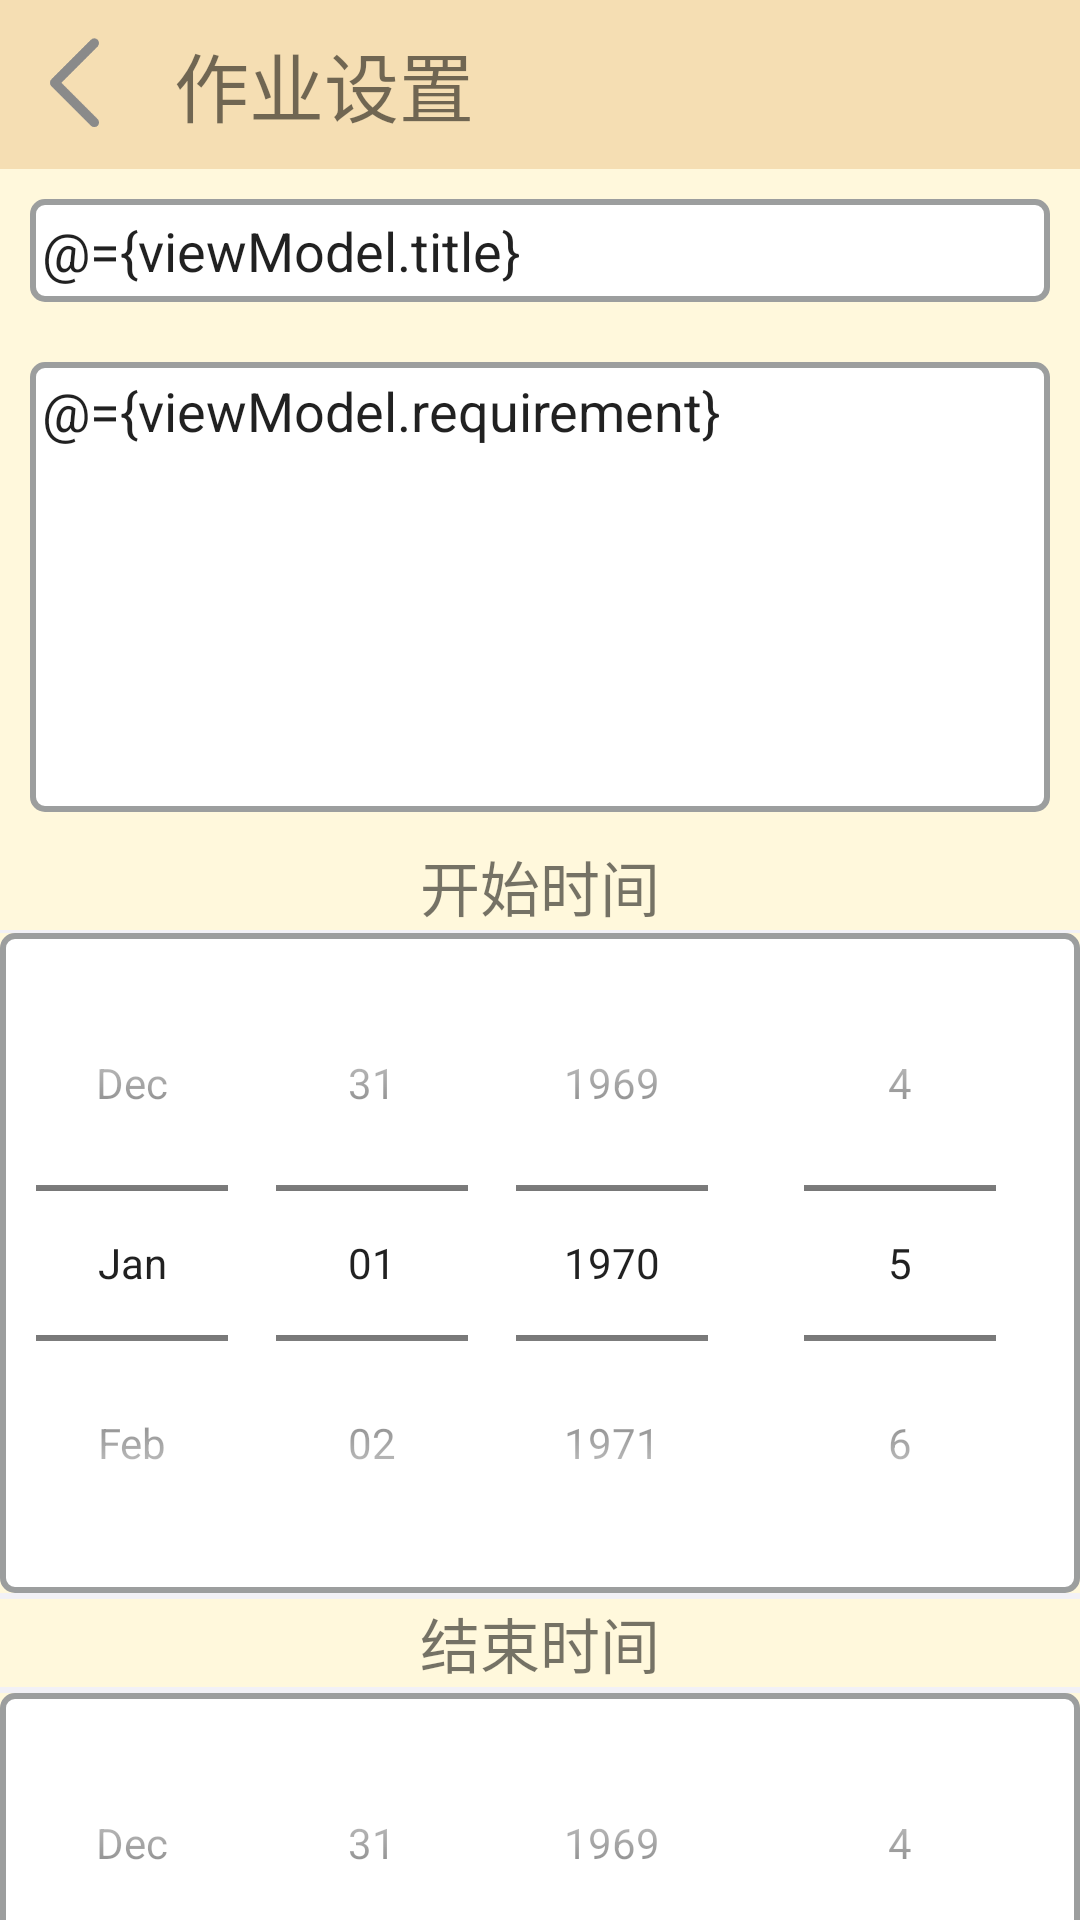

Screen size 1080 x 1920. Icon name, then its center in pixels as point (x, y):
back: point (74, 82)
